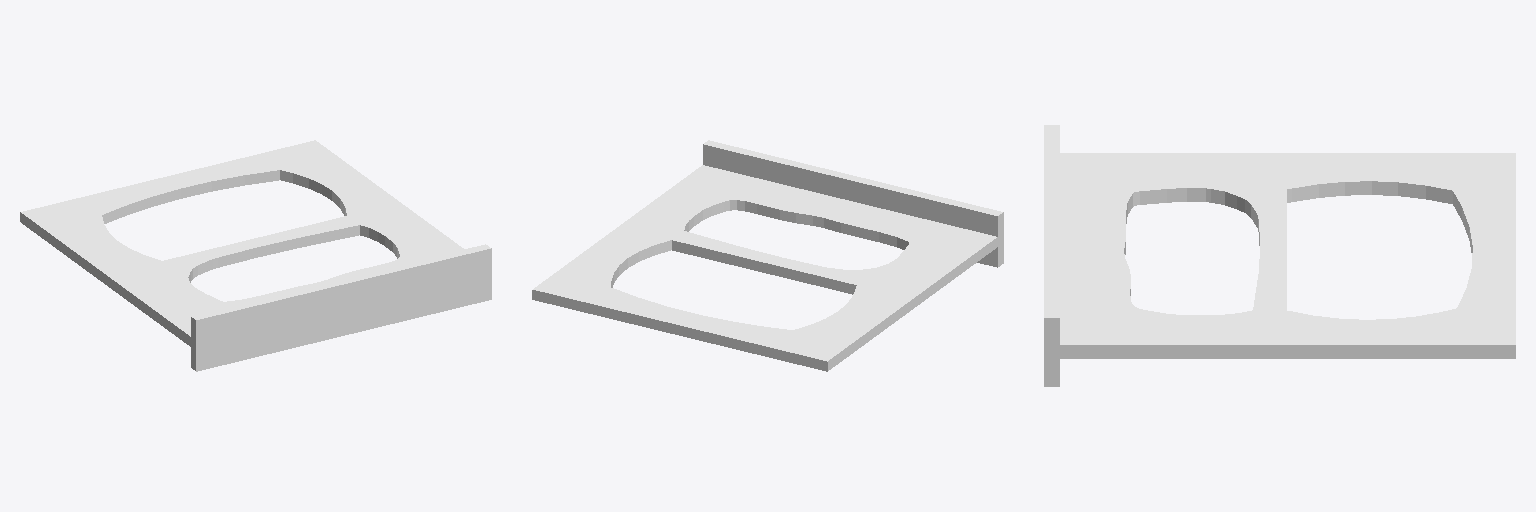
URDF robot description (forest_wall_4):
<?xml version="1.0" encoding="utf-8"?>
<!-- This URDF was automatically created by SolidWorks to URDF Exporter! Originally created by Stephen Brawner (brawner@gmail.com) 
     Commit Version: 1.6.0-4-g7f85cfe  Build Version: 1.6.7995.38578
     For more information, please see http://wiki.ros.org/sw_urdf_exporter -->
<robot
  name="forest_wall_4">
  <link
    name="base_link">
    <inertial>
      <origin
        xyz="-0.0293365760036922 -0.424346836184447 -5.22511800923989E-07"
        rpy="0 0 0" />
      <mass
        value="647.060949723429" />
      <inertia
        ixx="742.830997891525"
        ixy="5.41938326272626"
        ixz="6.93603980428228E-05"
        iyy="660.844788645412"
        iyz="-2.85534941792152E-06"
        izz="1396.59469771005" />
    </inertial>
    <visual>
      <origin
        xyz="0 0 0"
        rpy="0 0 0" />
      <geometry>
        <mesh
          filename="package://emnv_scene/urdf_models/forest_wall_4/meshes/forest_wall_4.STL" />
      </geometry>
      <material
        name="">
        <color
          rgba="1 1 1 1" />
      </material>
    </visual>
    <collision>
      <origin
        xyz="0 0 0"
        rpy="0 0 0" />
      <geometry>
        <mesh
          filename="package://emnv_scene/urdf_models/forest_wall_4/meshes/forest_wall_4.STL" />
      </geometry>
    </collision>
  </link>
</robot>

--- Render facts (derived) ---
Views: 3 orthographic renders of the robot side by side, from view 1: azimuth 30°, elevation 25°; view 2: azimuth 150°, elevation 25°; view 3: azimuth 270°, elevation 25°.
Robot: forest_wall_4 — 1 links, 0 joints (none); root link base_link; default pose: all joints at 0.
Links seen in each view (by area): view 1: base_link; view 2: base_link; view 3: base_link.
Boxes of the visible links, x1=… form: base_link: x1=20, y1=140, x2=491, y2=371; base_link: x1=532, y1=140, x2=1003, y2=371; base_link: x1=1044, y1=125, x2=1515, y2=386.
Bounding box of the posed robot: 3 × 3.1 × 0.5 m (x, y, z).
1 mesh visuals loaded from 1 distinct referenced files (1 binary STL).
